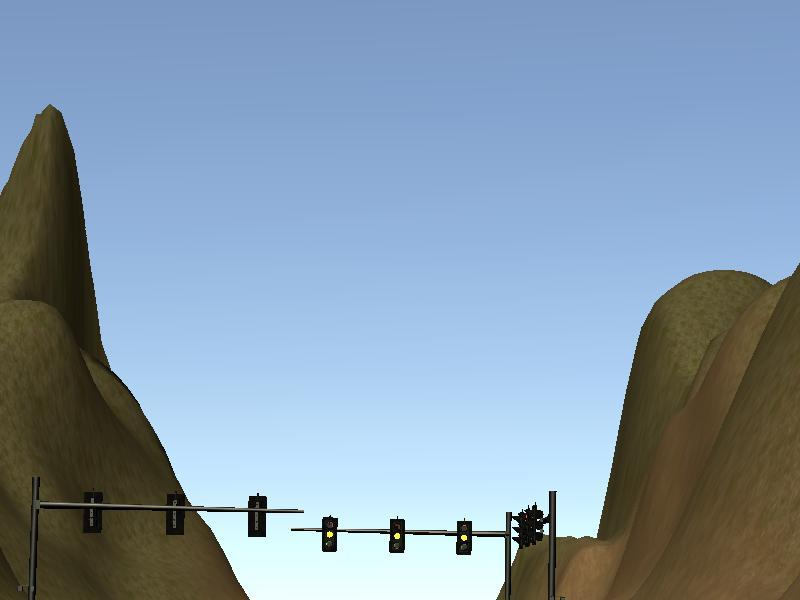Yellow: (456, 522, 471, 554), (390, 521, 404, 553), (322, 519, 335, 551)
